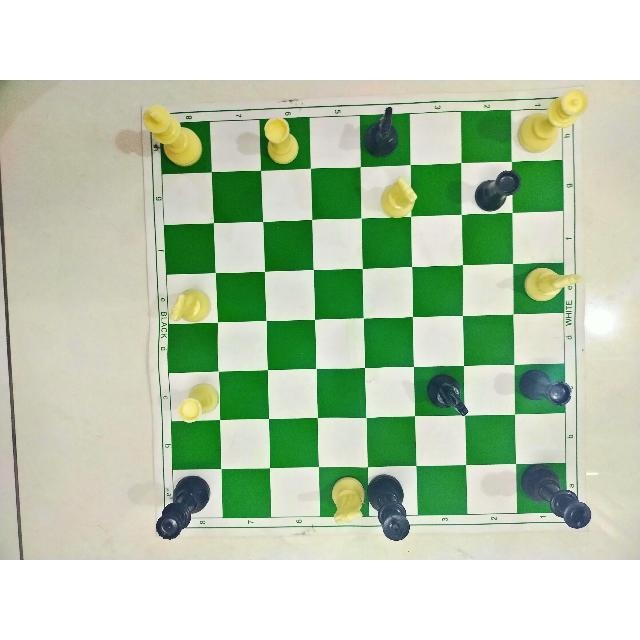black-king: (519, 462, 594, 531), (365, 472, 412, 543)
black-knight: (424, 370, 471, 419), (362, 105, 400, 159)
black-queen: (155, 473, 213, 542)
black-rook: (517, 366, 573, 408), (471, 167, 522, 213)
white-king: (140, 102, 204, 170)
white-knight: (521, 263, 586, 304), (329, 475, 367, 526), (380, 173, 420, 221), (166, 287, 213, 325)
white-queen: (515, 87, 591, 155)
white-rook: (176, 381, 222, 425), (262, 115, 300, 167)
